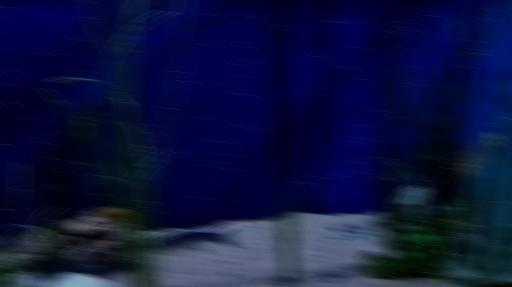Fish: (156, 227, 237, 255)
